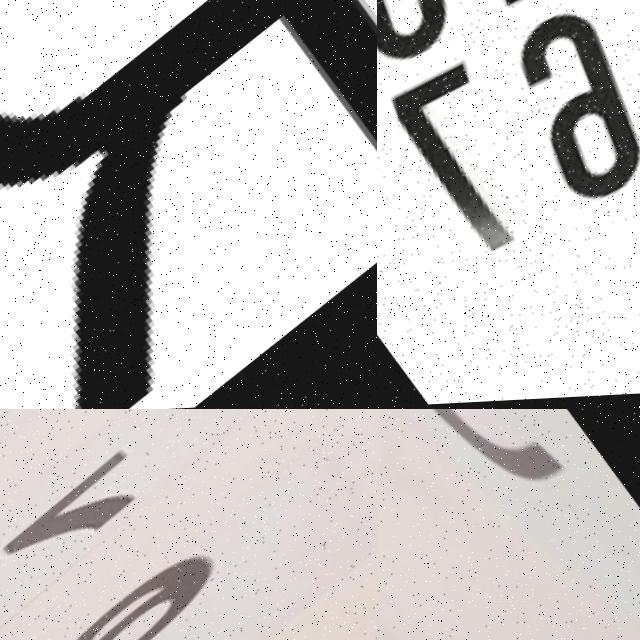0: (377, 521, 617, 640)
3: (377, 0, 522, 92)
5: (377, 409, 602, 562)
6: (458, 0, 640, 238), (23, 526, 256, 640)
7: (377, 35, 598, 293), (0, 416, 197, 610)
R: (0, 0, 377, 409)
